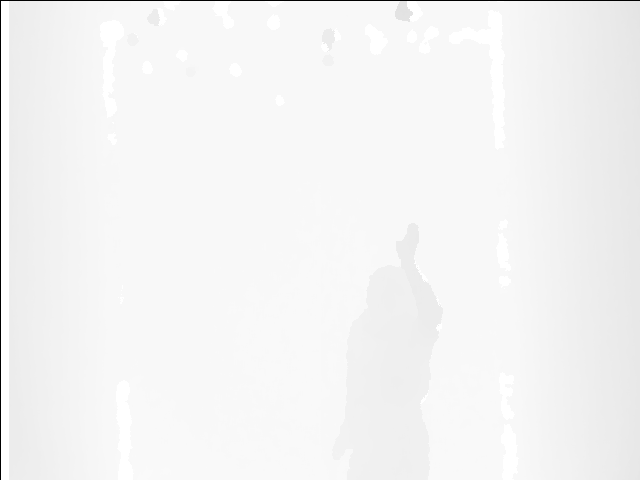hand: (394, 223, 419, 264)
